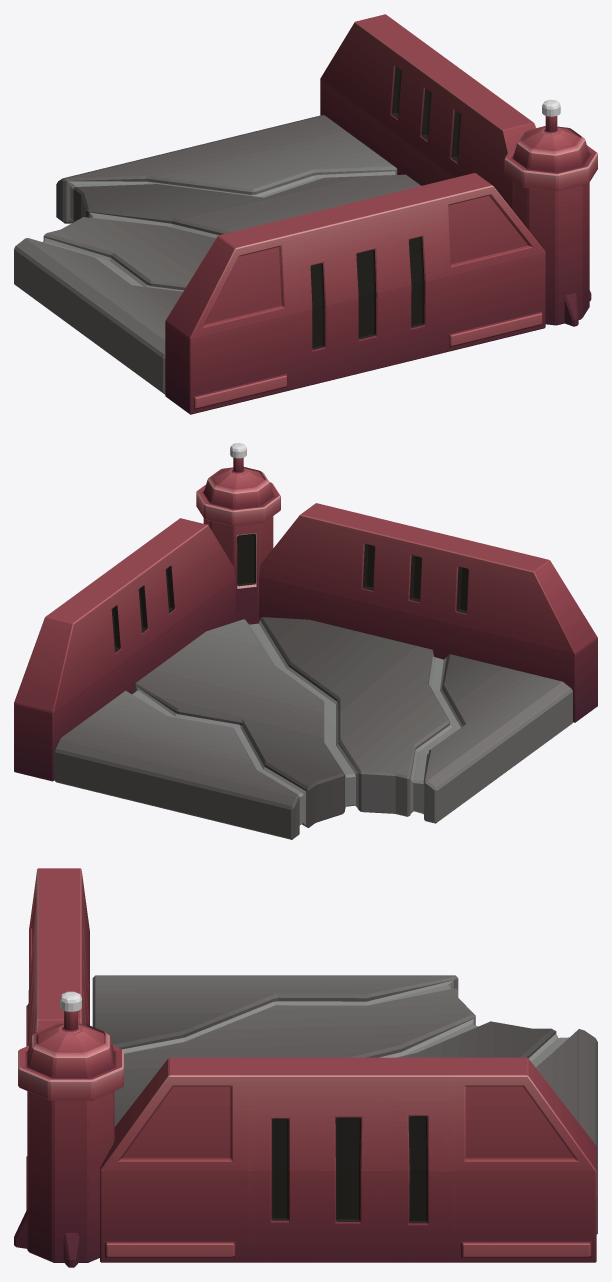
Rendered from Thermal Haul_ConveyorRight.glb.
3 renders of one model, top to bottom at view 1: azimuth 30°, elevation 25°; view 2: azimuth 150°, elevation 25°; view 3: azimuth 270°, elevation 25°, orthographic. The views are drawn at different scales.
Visible parts, largest first — view 1: ConveyorBeltRight; view 2: ConveyorBeltRight; view 3: ConveyorBeltRight.
Boxes of the visible parts, x1=… form: ConveyorBeltRight: x1=14, y1=14, x2=597, y2=414; ConveyorBeltRight: x1=14, y1=443, x2=597, y2=839; ConveyorBeltRight: x1=14, y1=868, x2=597, y2=1267.
Size of the model in its own units: 1.84 by 0.8757 by 1.84.
2 materials, 1 textured.
